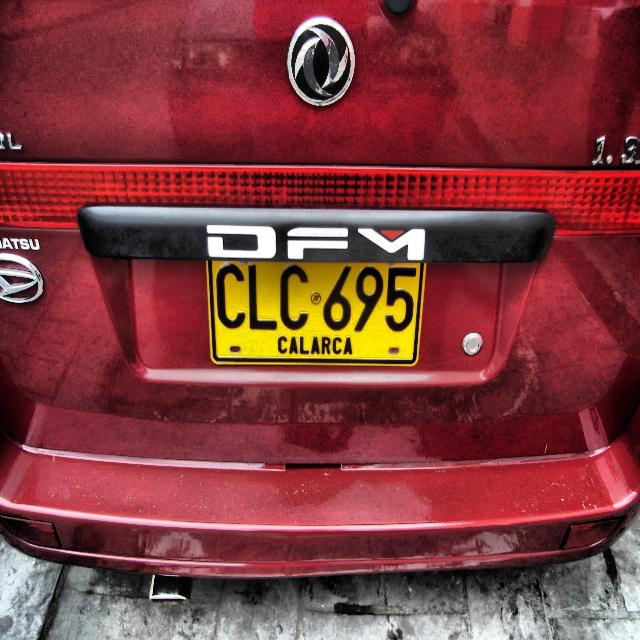plate: (208, 261, 425, 365)
